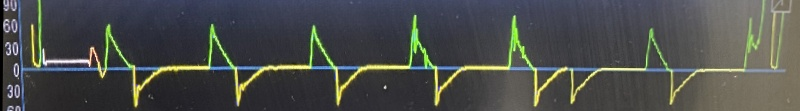hydrop_pressure: (398, 6, 567, 111)
normal_flow: (120, 12, 392, 111), (603, 9, 738, 111)
